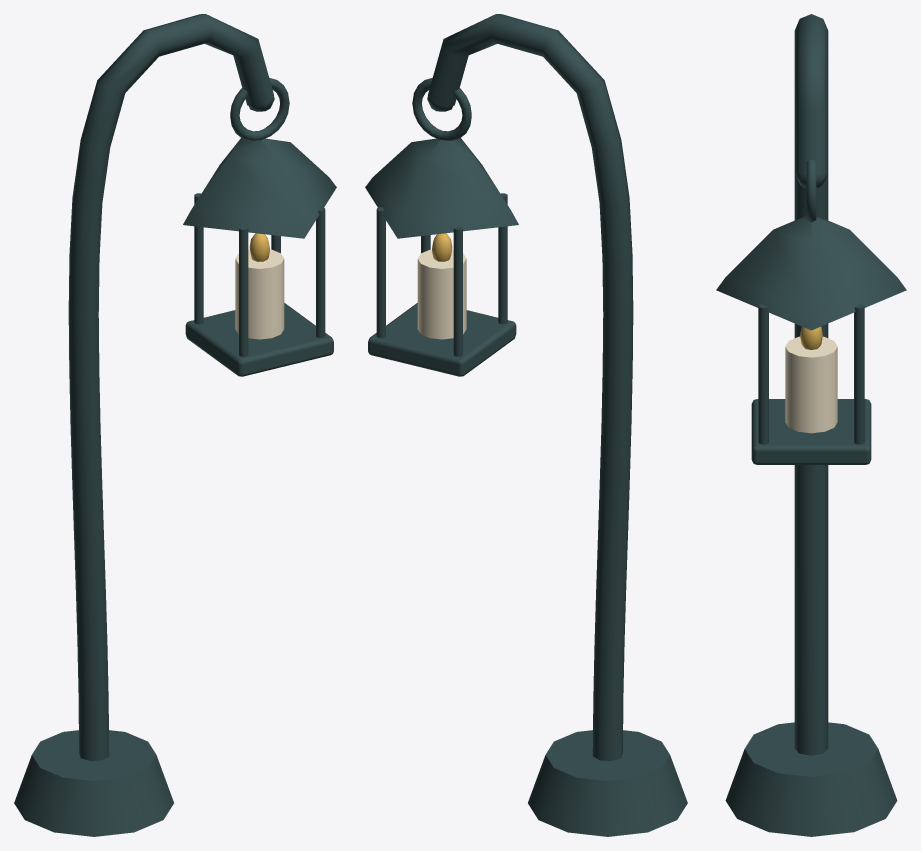
File: almanac-gardens-lantern-post-e53b6081__22025.glb
The picture shows the model from 3 angles, left to right: view 1: azimuth 30°, elevation 25°; view 2: azimuth 150°, elevation 25°; view 3: azimuth 270°, elevation 25°; orthographic projection. The views are drawn at different scales.
Parts seen in each view (by area): view 1: lantern-post-iron, lantern-post-ivory; view 2: lantern-post-iron, lantern-post-ivory; view 3: lantern-post-iron, lantern-post-ivory, lantern-post-gold.
Boxes of the visible parts, bbox=[...] form: lantern-post-iron: bbox=[14, 14, 336, 836]; lantern-post-ivory: bbox=[235, 249, 284, 339]; lantern-post-iron: bbox=[365, 14, 687, 836]; lantern-post-ivory: bbox=[417, 249, 466, 339]; lantern-post-iron: bbox=[716, 14, 906, 836]; lantern-post-ivory: bbox=[785, 336, 837, 433]; lantern-post-gold: bbox=[800, 326, 822, 349].
Size of the model in its own units: 0.81 by 1.89 by 0.3999.
